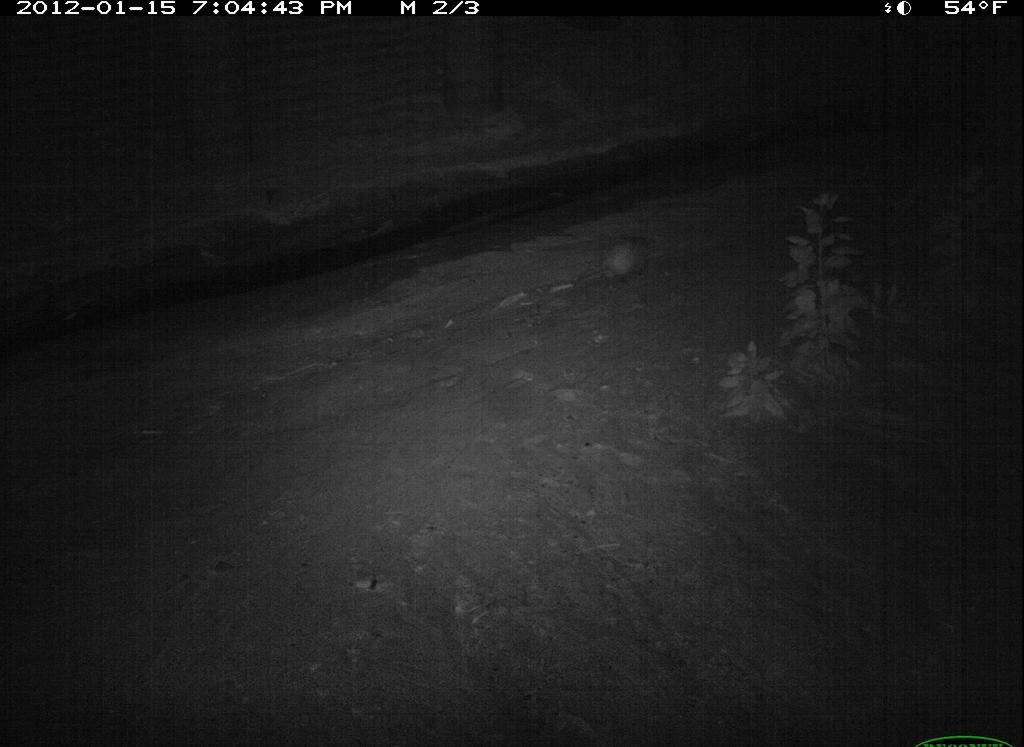opossum: (573, 221, 670, 300)
